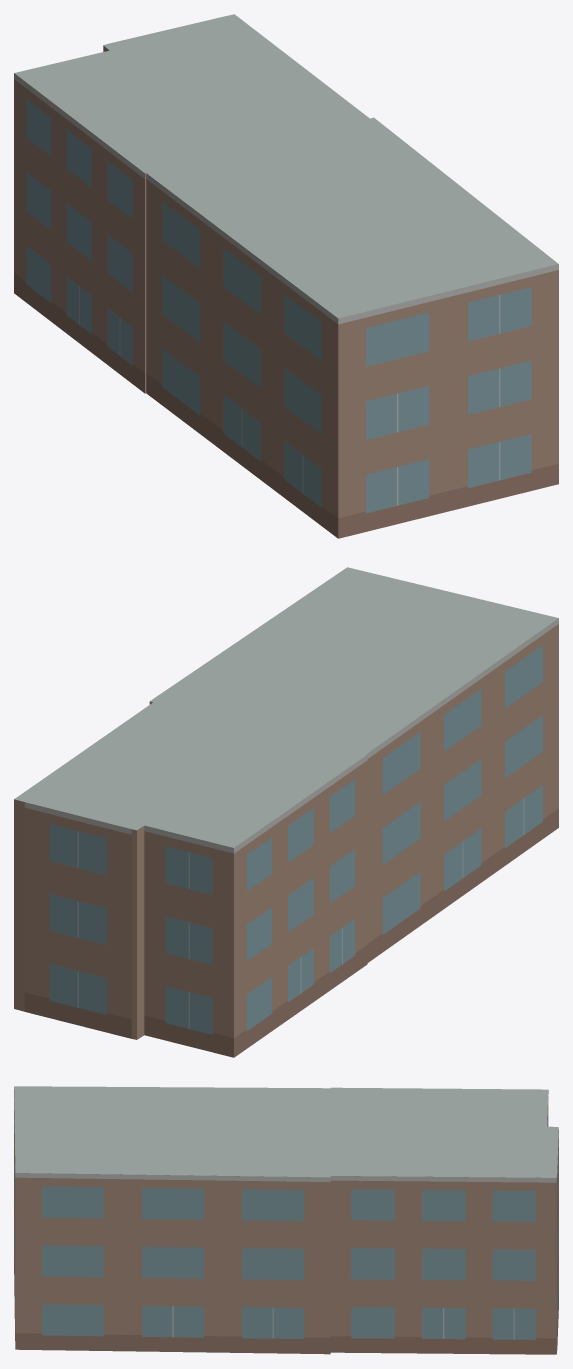
The model's file is survey-upis-32897555.glb.
The picture shows the model from 3 angles, top to bottom: view 1: azimuth 30°, elevation 25°; view 2: azimuth 150°, elevation 25°; view 3: azimuth 270°, elevation 25°; orthographic projection. The views are drawn at different scales.
Visible parts, largest first — view 1: survey-upis-32897555.tmp; view 2: survey-upis-32897555.tmp; view 3: survey-upis-32897555.tmp.
Boxes of the visible parts, left/top/right/bottom form: survey-upis-32897555.tmp: left=14, top=14, right=558, bottom=538; survey-upis-32897555.tmp: left=14, top=567, right=558, bottom=1057; survey-upis-32897555.tmp: left=14, top=1086, right=558, bottom=1354.
Bounding box in the file's own units: 10.19 × 9.15 × 25.57.
